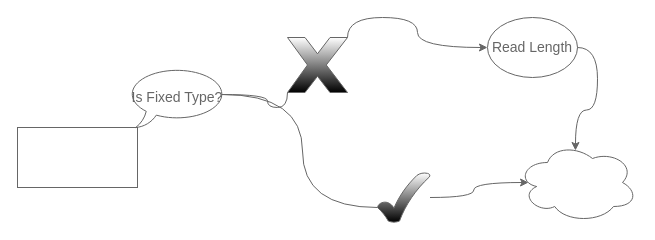
The diagram is 655 pixels wide and 240 high, and some of its shapes have lost their labels. The centre of each missing label's shape, as x and y in pixels:
Read Marker: [77,157]
Read Value: [577,182]
